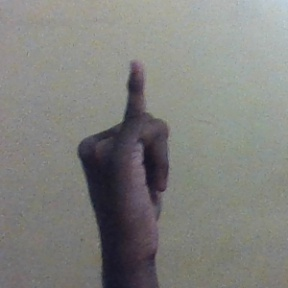I: (74, 58, 180, 240)
